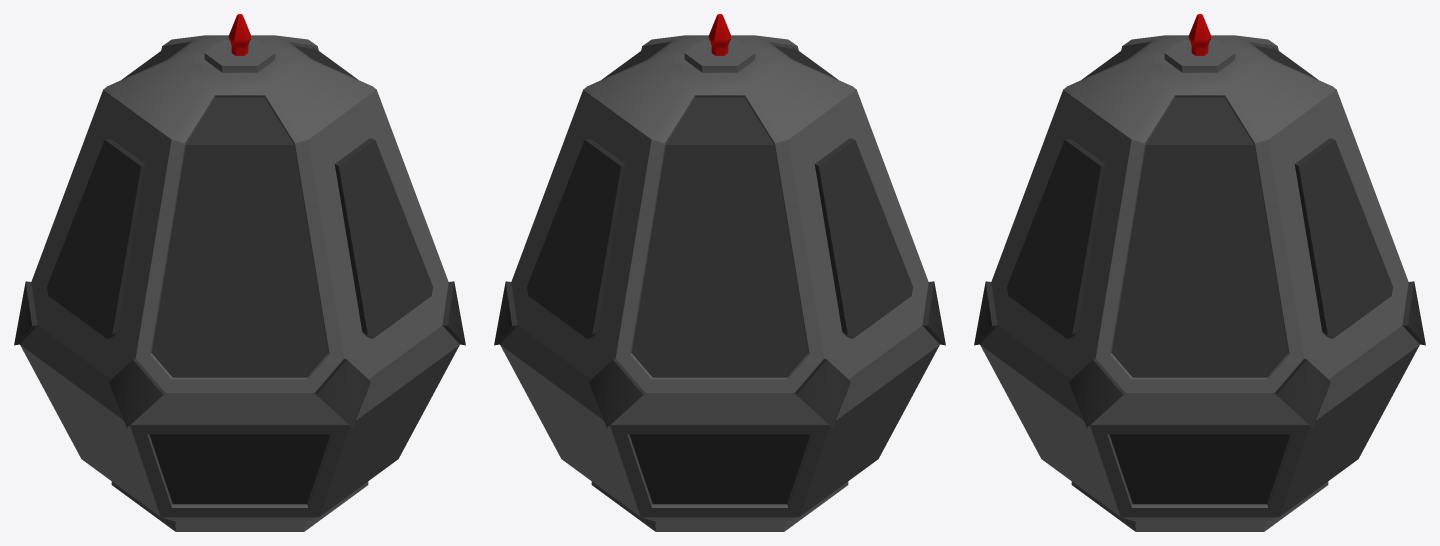
Rendered from EnemyPod.fbx.
3 views of the same model, side by side, from view 1: azimuth 30°, elevation 25°; view 2: azimuth 150°, elevation 25°; view 3: azimuth 270°, elevation 25° (orthographic).
Visible parts, largest first — view 1: Cylinder.001_Cylinder.007; view 2: Cylinder.001_Cylinder.007; view 3: Cylinder.001_Cylinder.007.
Boxes of the visible parts, x1=… form: Cylinder.001_Cylinder.007: x1=14, y1=14, x2=465, y2=531; Cylinder.001_Cylinder.007: x1=494, y1=14, x2=945, y2=531; Cylinder.001_Cylinder.007: x1=974, y1=14, x2=1425, y2=531.
Bounding box in the file's own units: 132 × 174 × 152.
Materials: 1 (1 with a texture image).
